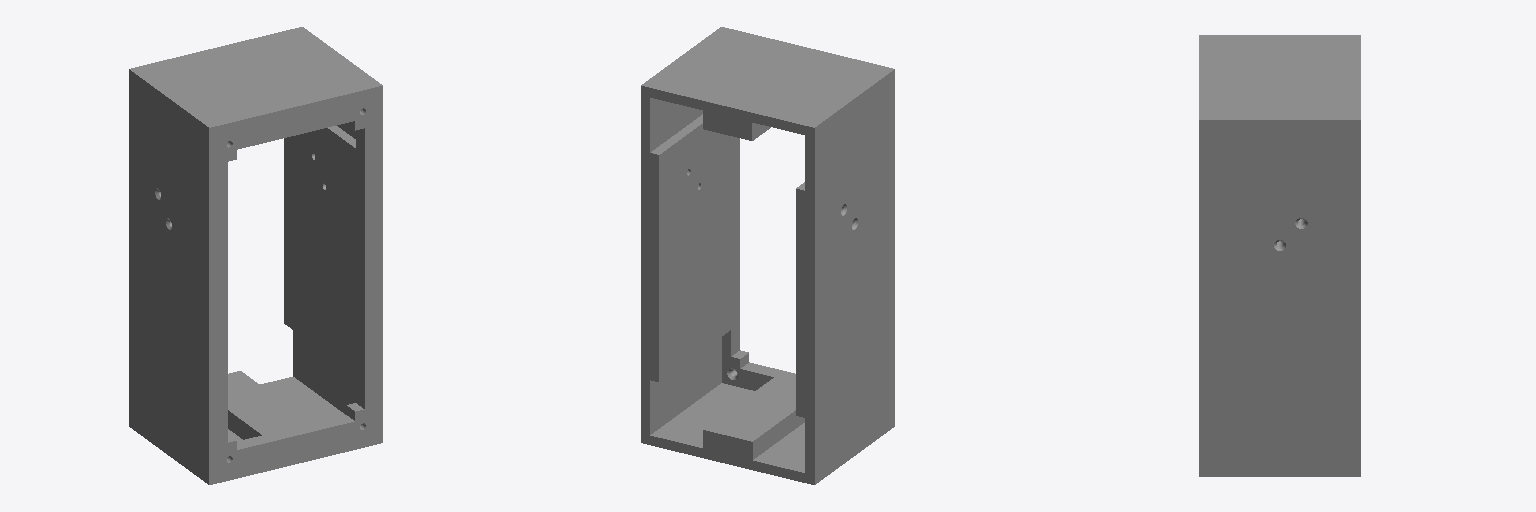
File: extender.obj
3 renders of one model, left to right at view 1: azimuth 30°, elevation 25°; view 2: azimuth 150°, elevation 25°; view 3: azimuth 270°, elevation 25°, orthographic.
Visible parts, largest first — view 1: extender; view 2: extender; view 3: extender.
Part boxes in pixels (x1,y1,x2,y2): extender: (129,27,382,484); extender: (641,27,894,484); extender: (1199,35,1360,476).
Bounding box in the file's own units: 55.99 × 110 × 45.